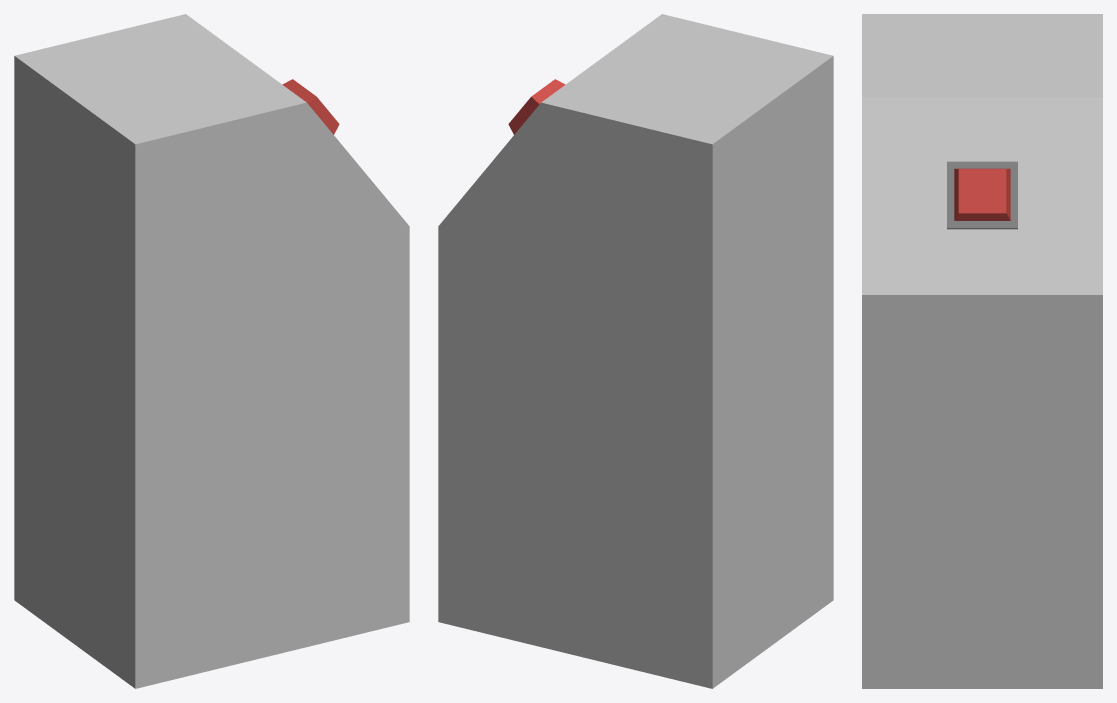
The model's file is button.fbx.
3 views of the same model, side by side, from view 1: azimuth 30°, elevation 25°; view 2: azimuth 150°, elevation 25°; view 3: azimuth 270°, elevation 25° (orthographic).
Parts seen in each view (by area): view 1: Cube, Cube.001; view 2: Cube, Cube.001; view 3: Cube, Cube.001.
Part boxes in pixels (box(x1,y1,x2,y2)): Cube: box(14, 14, 409, 688); Cube.001: box(282, 79, 339, 134); Cube: box(438, 14, 833, 688); Cube.001: box(508, 79, 565, 134); Cube: box(862, 14, 1102, 688); Cube.001: box(947, 161, 1017, 229).
Size of the model in its own units: 157 by 298 by 120.
